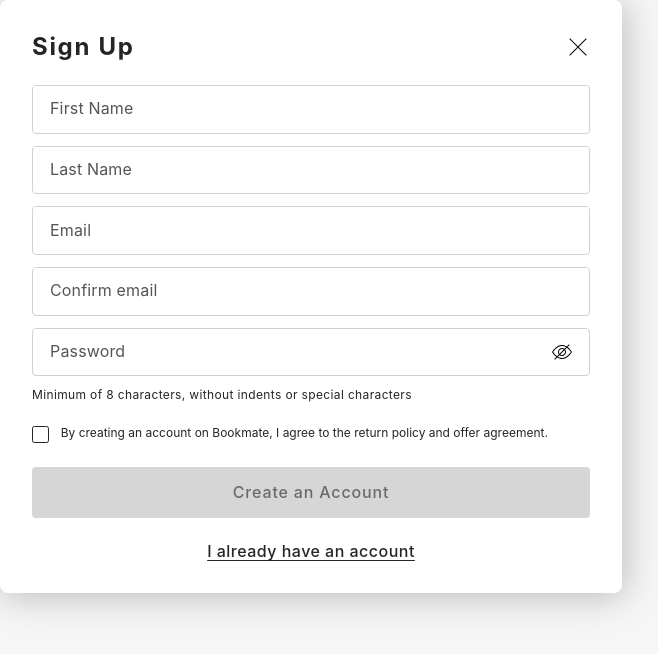
Test: RegisterForm component › Validation logic › should display error when last name is empty
expect the text "This field is required" is not shown: met
expect the field named "lastName" is shown: met, box [32,146,590,194]
Click the text "Last Name".
click(311, 169)  # box [34,147,588,192]
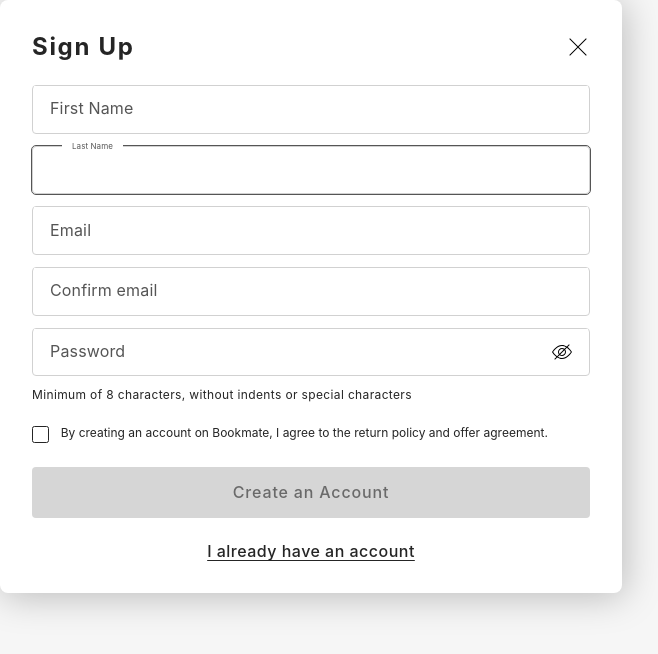
Click the button "Create an Account".
click(311, 492)  # box [32,467,590,518]
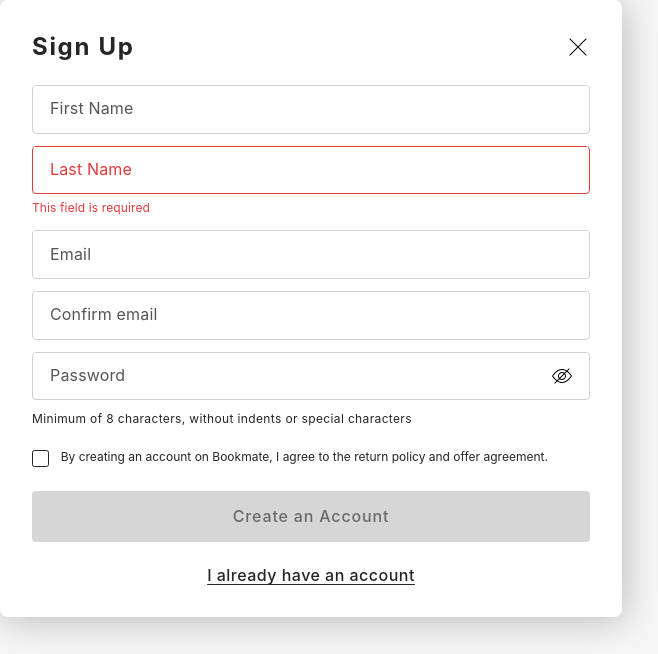
expect the text "The last name must start with a capital letter" is not shown: met
expect the text "This field is required" is shown: met, box [32,200,150,215]
Type "s" into the field named "lastName".
click(311, 170); type("s")  # box [32,146,590,194]
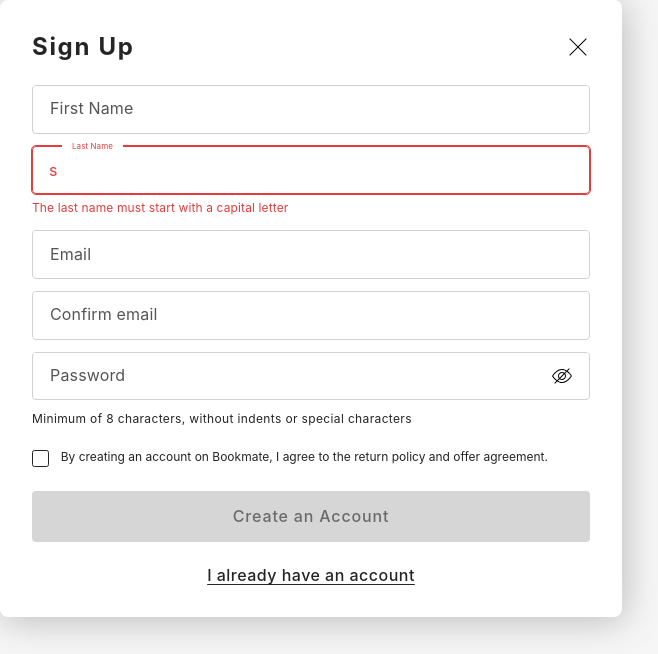
expect the text "This field is required" is gone: met
expect the text "The last name must start with a capital letter" is shown: met, box [32,200,288,215]
